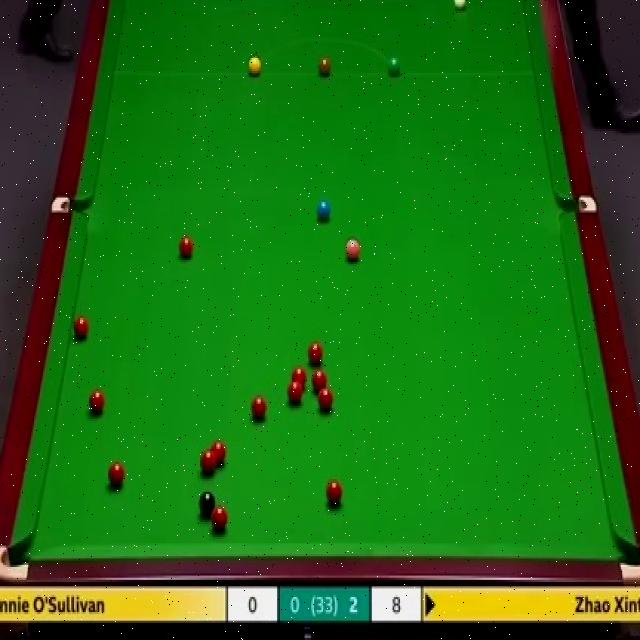black-ball: (198, 488, 217, 522)
blue-ball: (317, 198, 333, 224)
brown-ball: (318, 57, 332, 79)
green-ball: (386, 56, 400, 79)
pink-ball: (343, 234, 364, 264)
red-ball: (210, 507, 230, 536), (198, 449, 218, 476), (306, 339, 325, 366), (88, 387, 105, 417), (107, 461, 125, 489), (72, 314, 90, 341), (286, 381, 304, 406), (326, 480, 342, 507), (252, 397, 268, 423), (178, 235, 195, 259), (290, 366, 308, 388), (318, 386, 333, 411), (212, 440, 228, 463), (315, 372, 331, 391)
white-ball: (452, 0, 469, 13)
yellow-ball: (248, 55, 262, 78)
